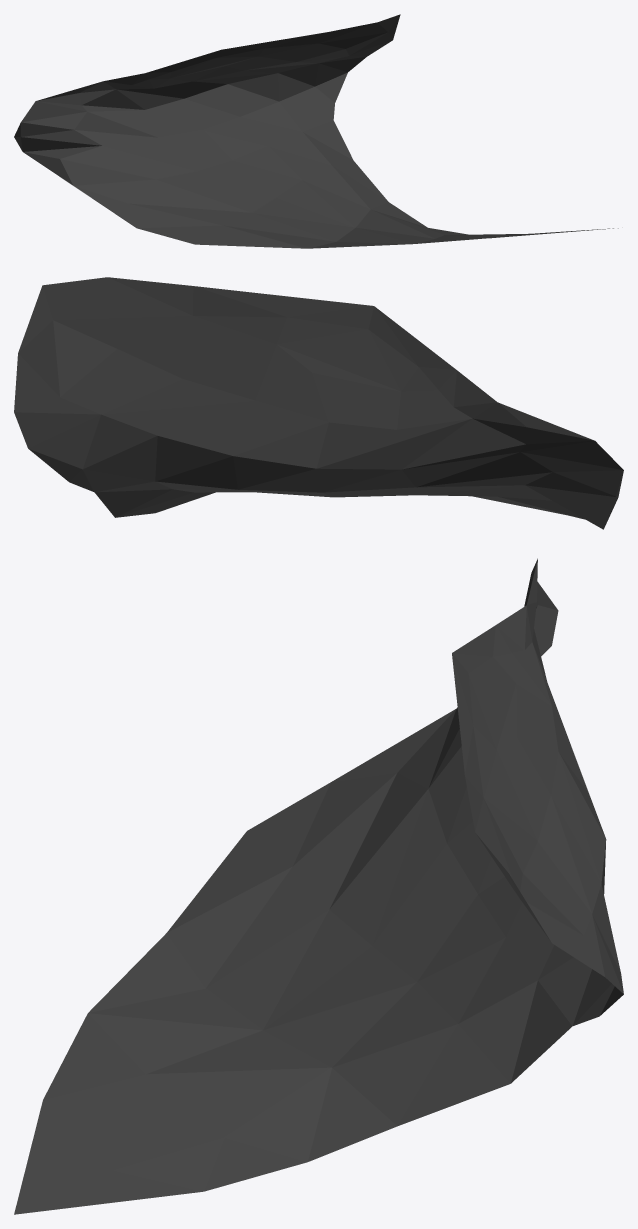
Rendered from ligament_craniolateral_meniscotibial_e.glb.
The picture shows the model from 3 angles, top to bottom: view 1: azimuth 30°, elevation 25°; view 2: azimuth 150°, elevation 25°; view 3: azimuth 270°, elevation 25°; orthographic projection. The views are drawn at different scales.
Visible parts, largest first — view 1: ligament_craniolateral_meniscotibial_e; view 2: ligament_craniolateral_meniscotibial_e; view 3: ligament_craniolateral_meniscotibial_e.
Part boxes in pixels (x1=…): ligament_craniolateral_meniscotibial_e: x1=14, y1=14, x2=618, y2=248; ligament_craniolateral_meniscotibial_e: x1=14, y1=277, x2=623, y2=529; ligament_craniolateral_meniscotibial_e: x1=14, y1=558, x2=623, y2=1214.
Size of the model in its own units: 0.00109 by 0.000428 by 0.000665.
Materials: 1 (1 with a texture image).
